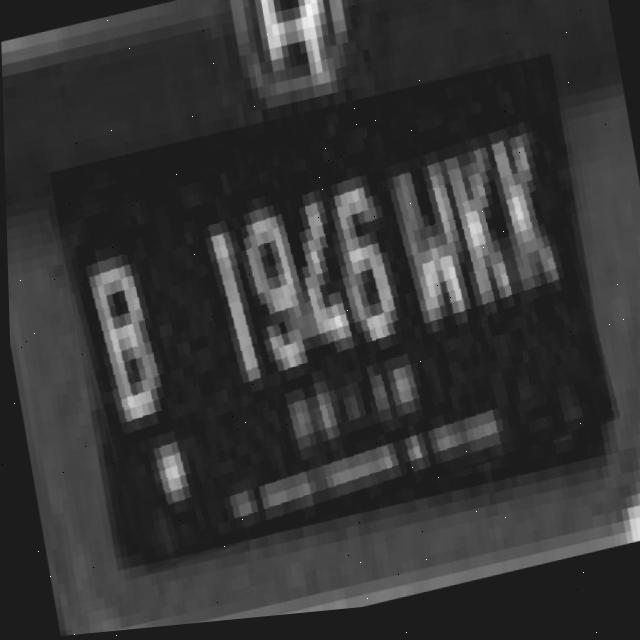LicensePlate: (47, 60, 618, 578)
